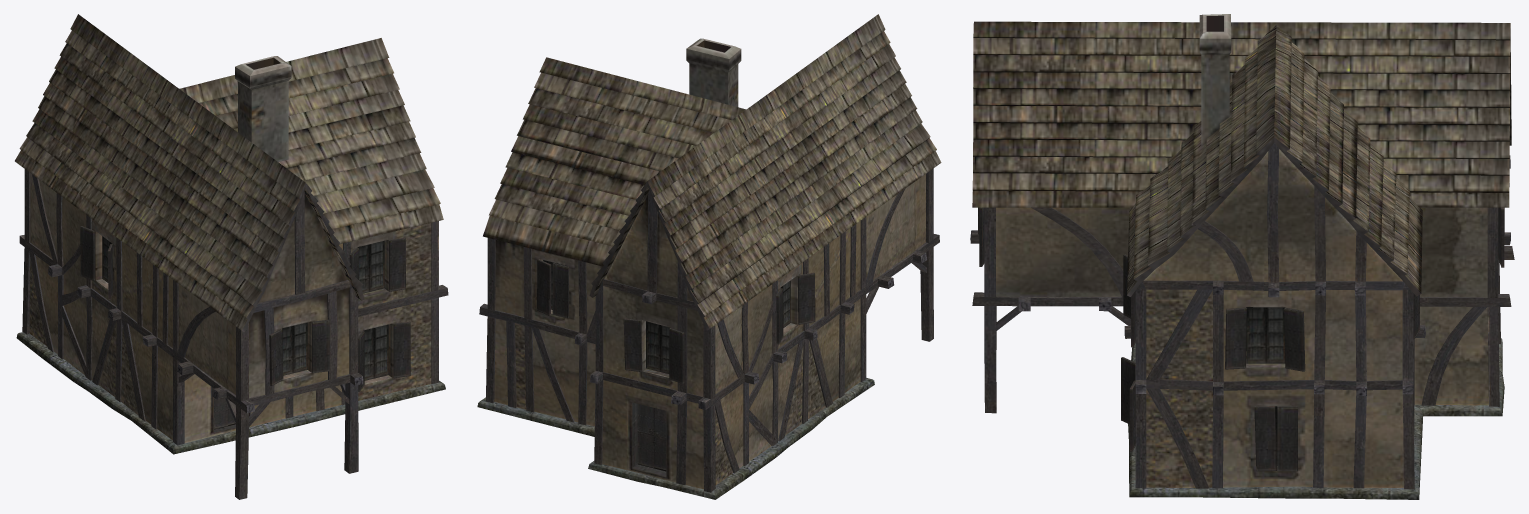
File: WildernessHut.fbx
3 renders of one model, left to right at view 1: azimuth 30°, elevation 25°; view 2: azimuth 150°, elevation 25°; view 3: azimuth 270°, elevation 25°, orthographic. The views are drawn at different scales.
Parts seen in each view (by area): view 1: WildernessHut; view 2: WildernessHut; view 3: WildernessHut.
Part boxes in pixels (x1=…): WildernessHut: x1=15, y1=14, x2=448, y2=499; WildernessHut: x1=477, y1=14, x2=941, y2=499; WildernessHut: x1=970, y1=14, x2=1514, y2=499.
Size of the model in its own units: 1611 by 1814 by 2286.
